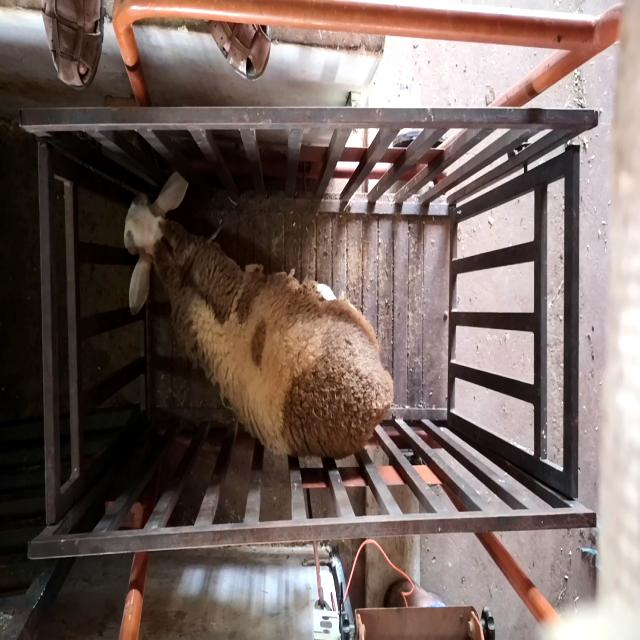sheep: (124, 170, 394, 461)
